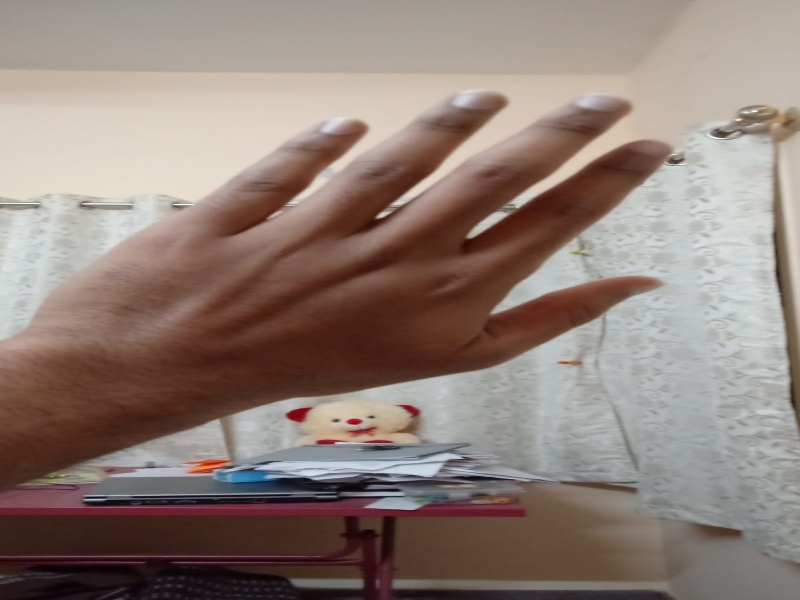Hand: (11, 84, 681, 446)
